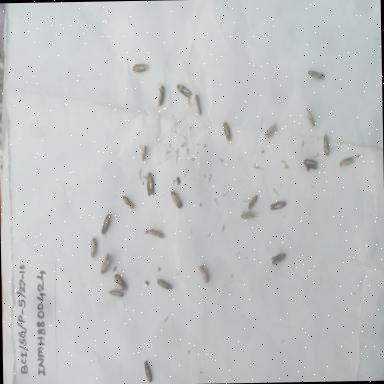pbw: (98, 249, 114, 280), (268, 194, 290, 216), (306, 63, 326, 87), (100, 206, 114, 240), (146, 224, 165, 245), (322, 133, 338, 157), (239, 206, 259, 225), (142, 172, 156, 198), (155, 82, 167, 112), (154, 276, 174, 294), (113, 272, 130, 292), (192, 91, 204, 119), (169, 188, 184, 210), (221, 121, 234, 146), (197, 264, 211, 286), (304, 106, 318, 128), (121, 194, 138, 212), (270, 250, 288, 267), (301, 156, 320, 172), (88, 233, 98, 262), (176, 82, 192, 100), (246, 192, 262, 210), (264, 120, 278, 140), (142, 356, 152, 383), (132, 62, 151, 76), (108, 287, 127, 300), (339, 155, 357, 168), (138, 142, 148, 164)
